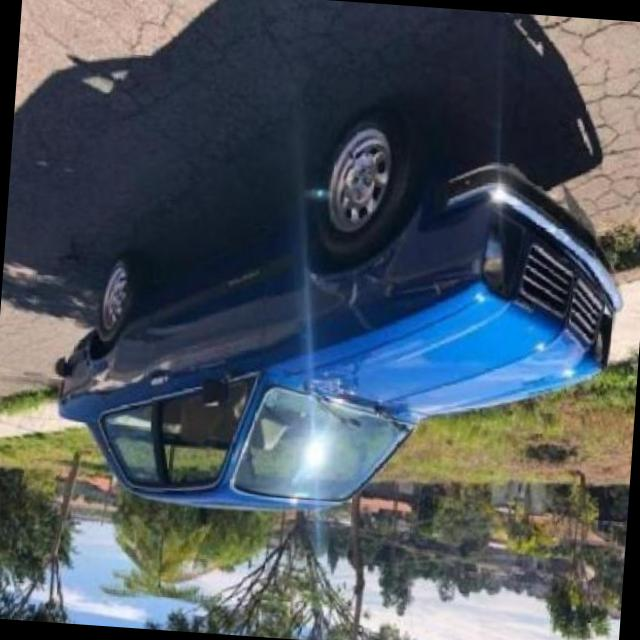car: (45, 84, 636, 534)
